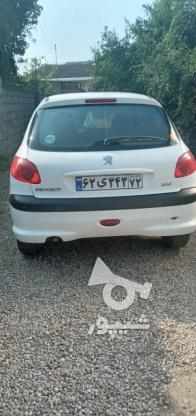car: (74, 176, 146, 192)
